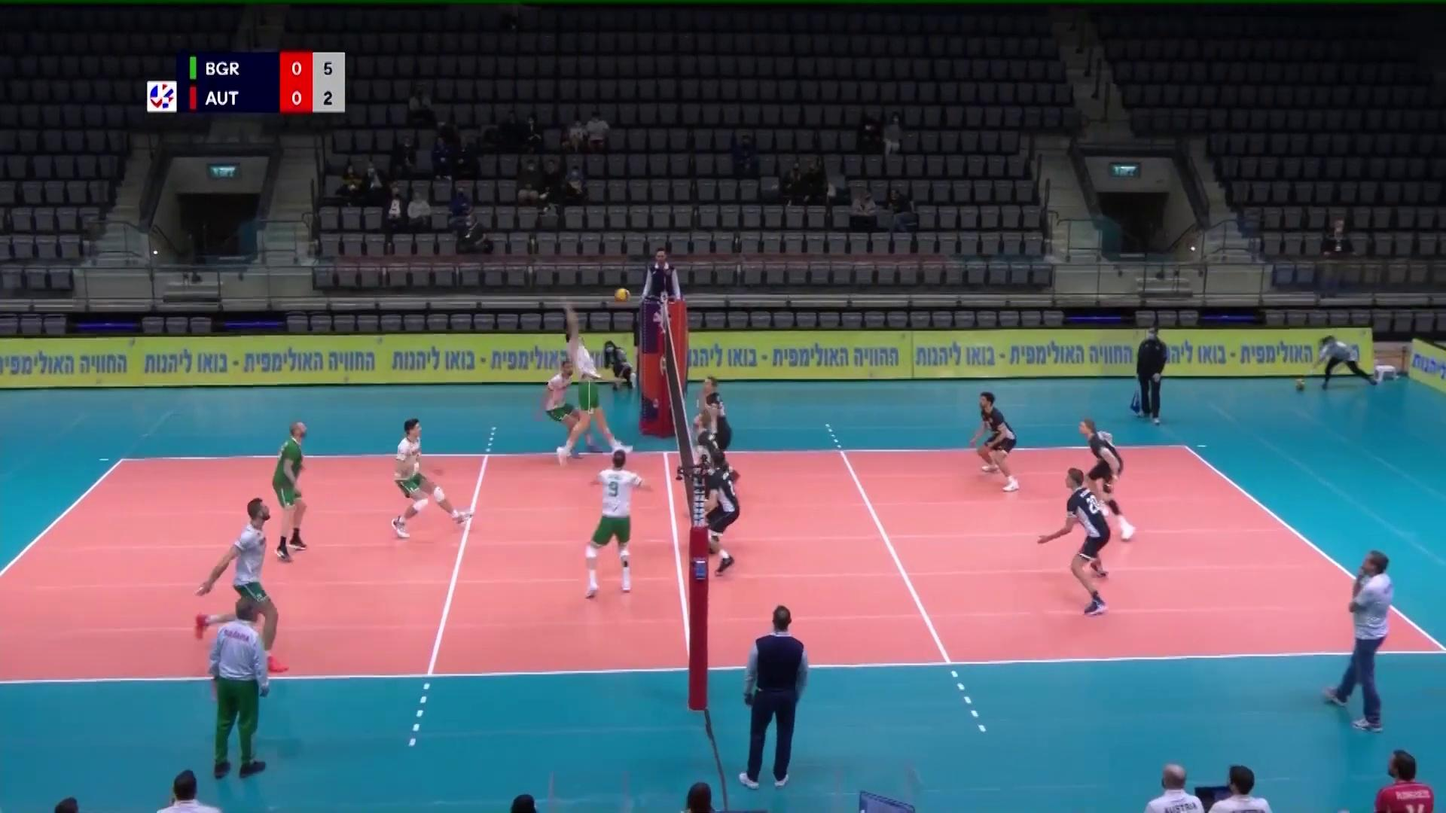ball: (615, 288, 630, 302)
